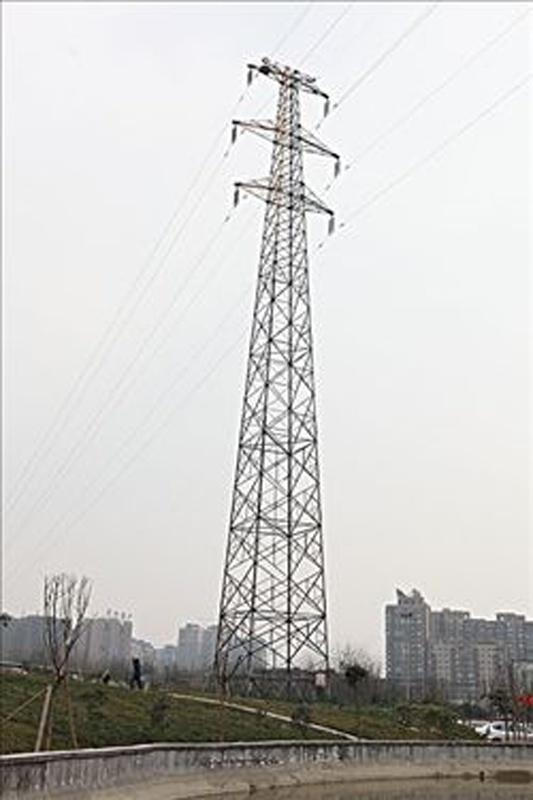power_tower: (201, 47, 344, 697)
